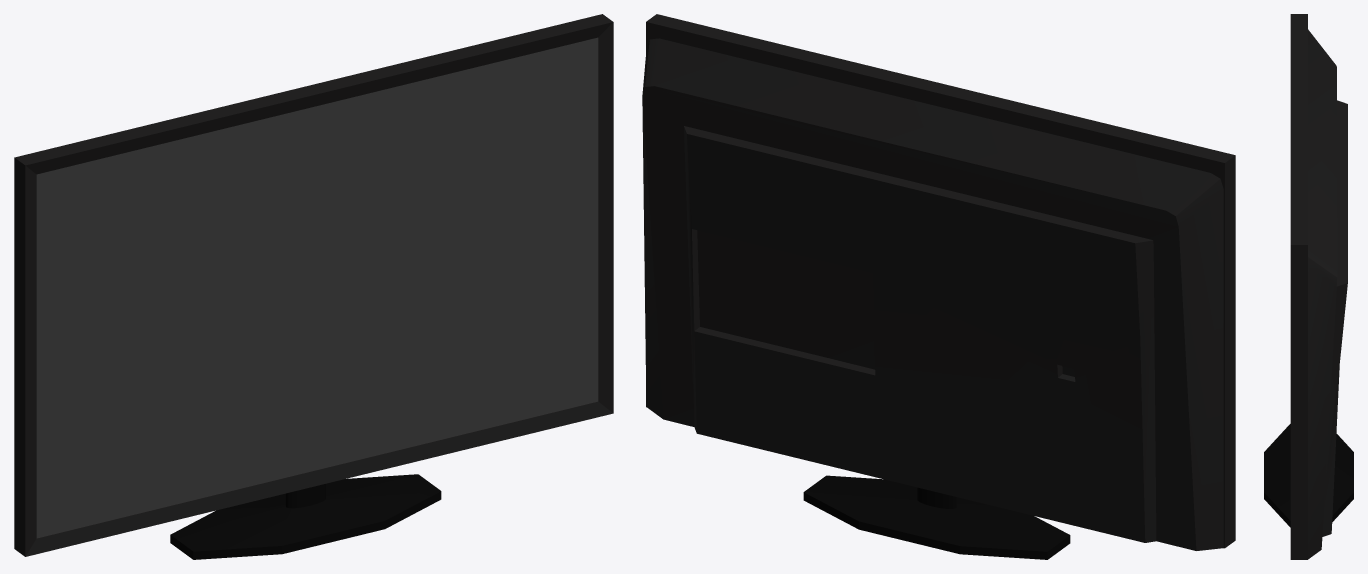
Rendered from FlatScreenTV_and_Stand.FBX.fbx.
The picture shows the model from 3 angles, left to right: view 1: azimuth 30°, elevation 25°; view 2: azimuth 150°, elevation 25°; view 3: azimuth 270°, elevation 25°; orthographic projection. The views are drawn at different scales.
Visible parts, largest first — view 1: FlastScreenTV, TVStand; view 2: FlastScreenTV, TVStand; view 3: FlastScreenTV, TVStand.
Boxes of the visible parts, x1,y1,x2,y2 form: FlastScreenTV: (14, 14, 613, 556); TVStand: (170, 474, 441, 559); FlastScreenTV: (642, 14, 1235, 550); TVStand: (803, 475, 1070, 559); FlastScreenTV: (1290, 14, 1347, 559); TVStand: (1264, 424, 1353, 527).
Bounding box in the file's own units: 103 × 72.62 × 16.86.
Materials: 2 (1 with a texture image).
